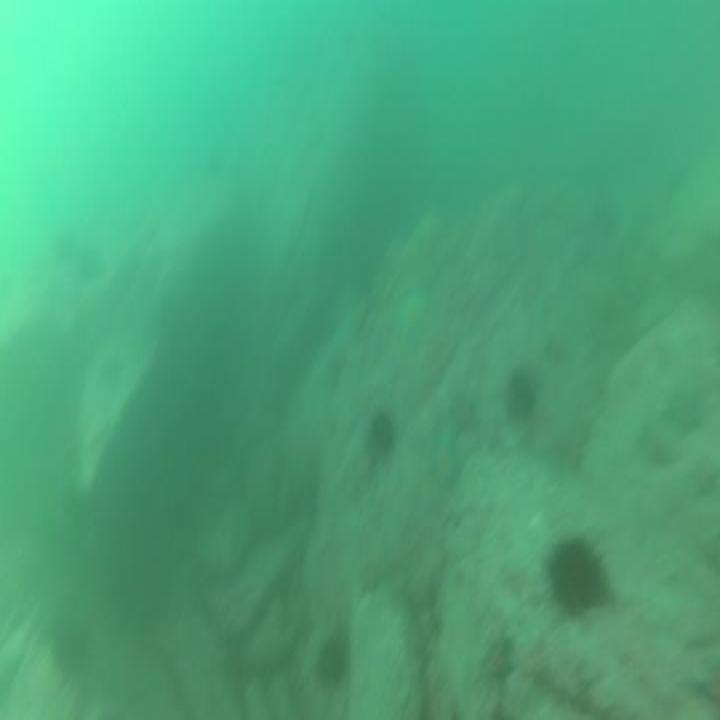echinus: (542, 526, 611, 626), (501, 363, 542, 432), (312, 635, 348, 698), (366, 405, 400, 464)
starfish: (441, 380, 483, 448), (661, 384, 707, 443), (486, 636, 518, 698), (355, 553, 389, 603)
